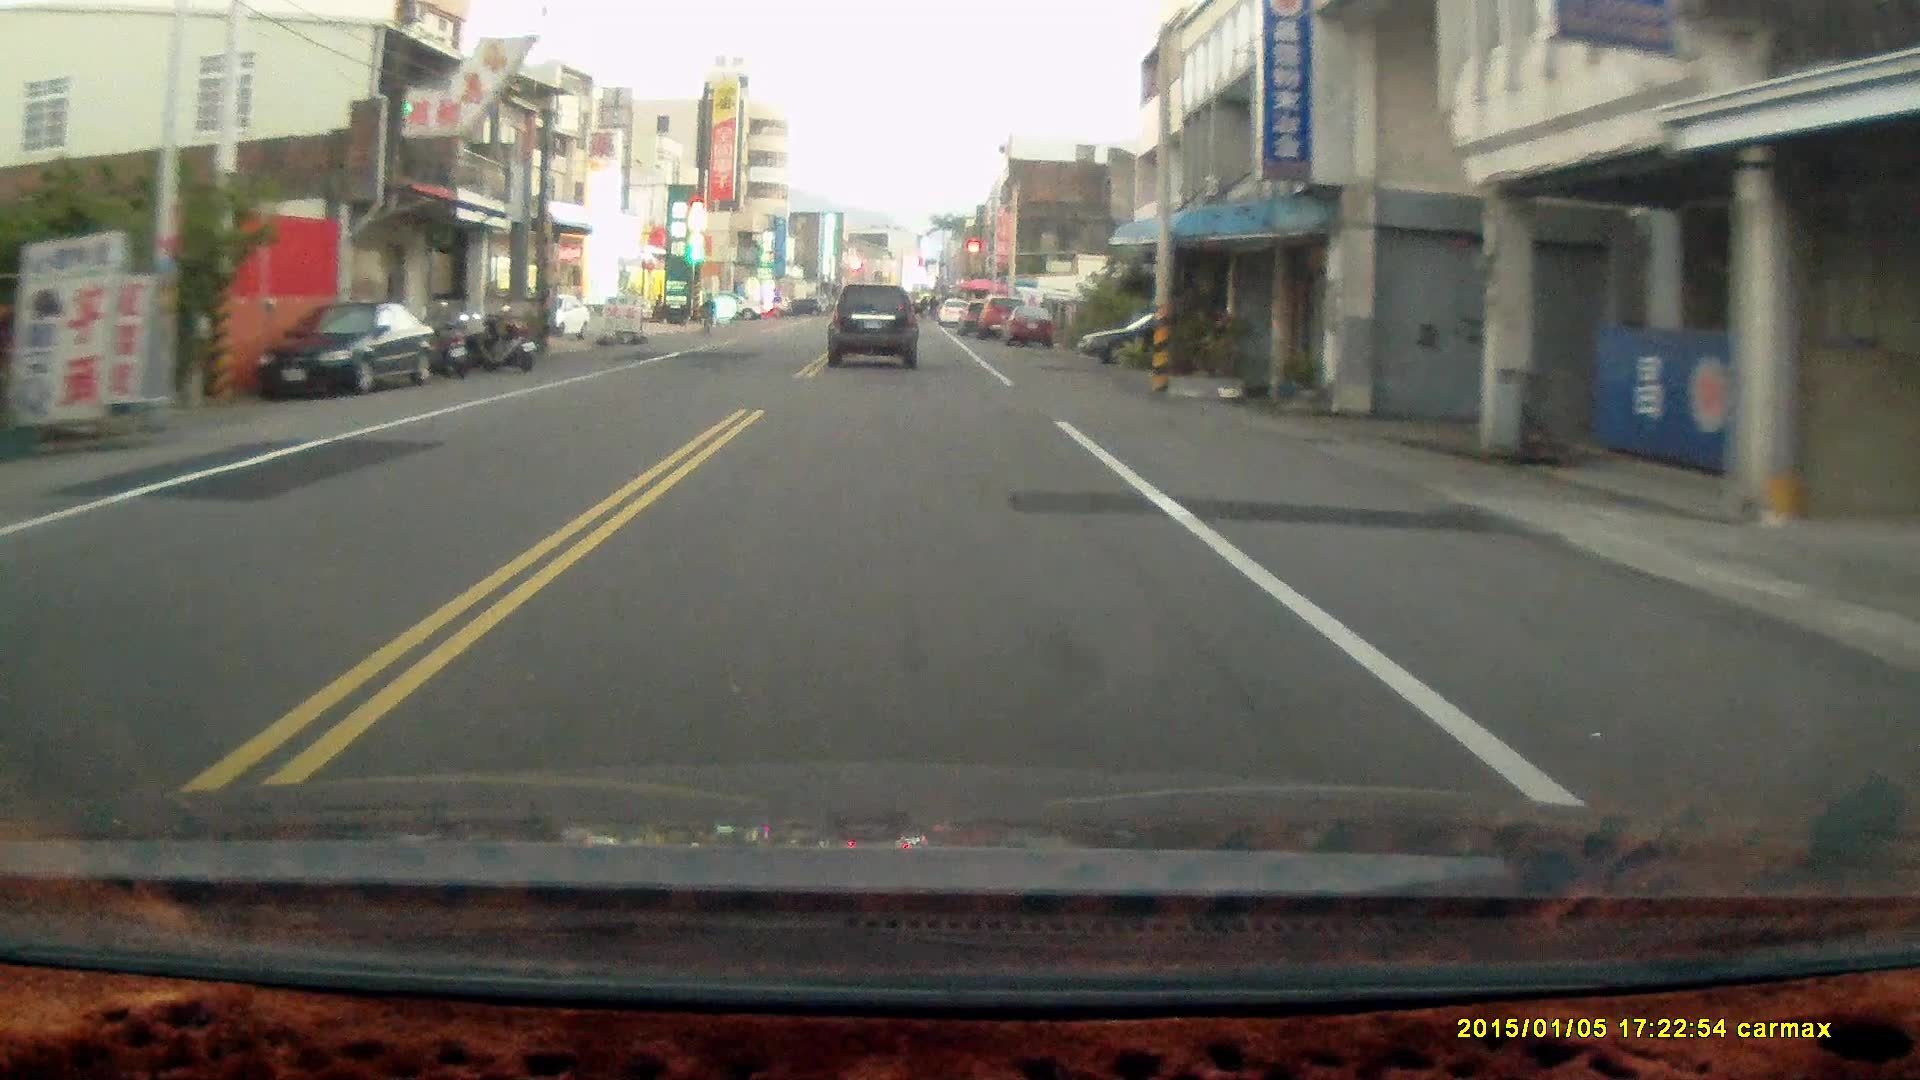rider: (694, 289, 717, 336)
vehicle: (251, 301, 437, 395), (828, 281, 920, 370)
